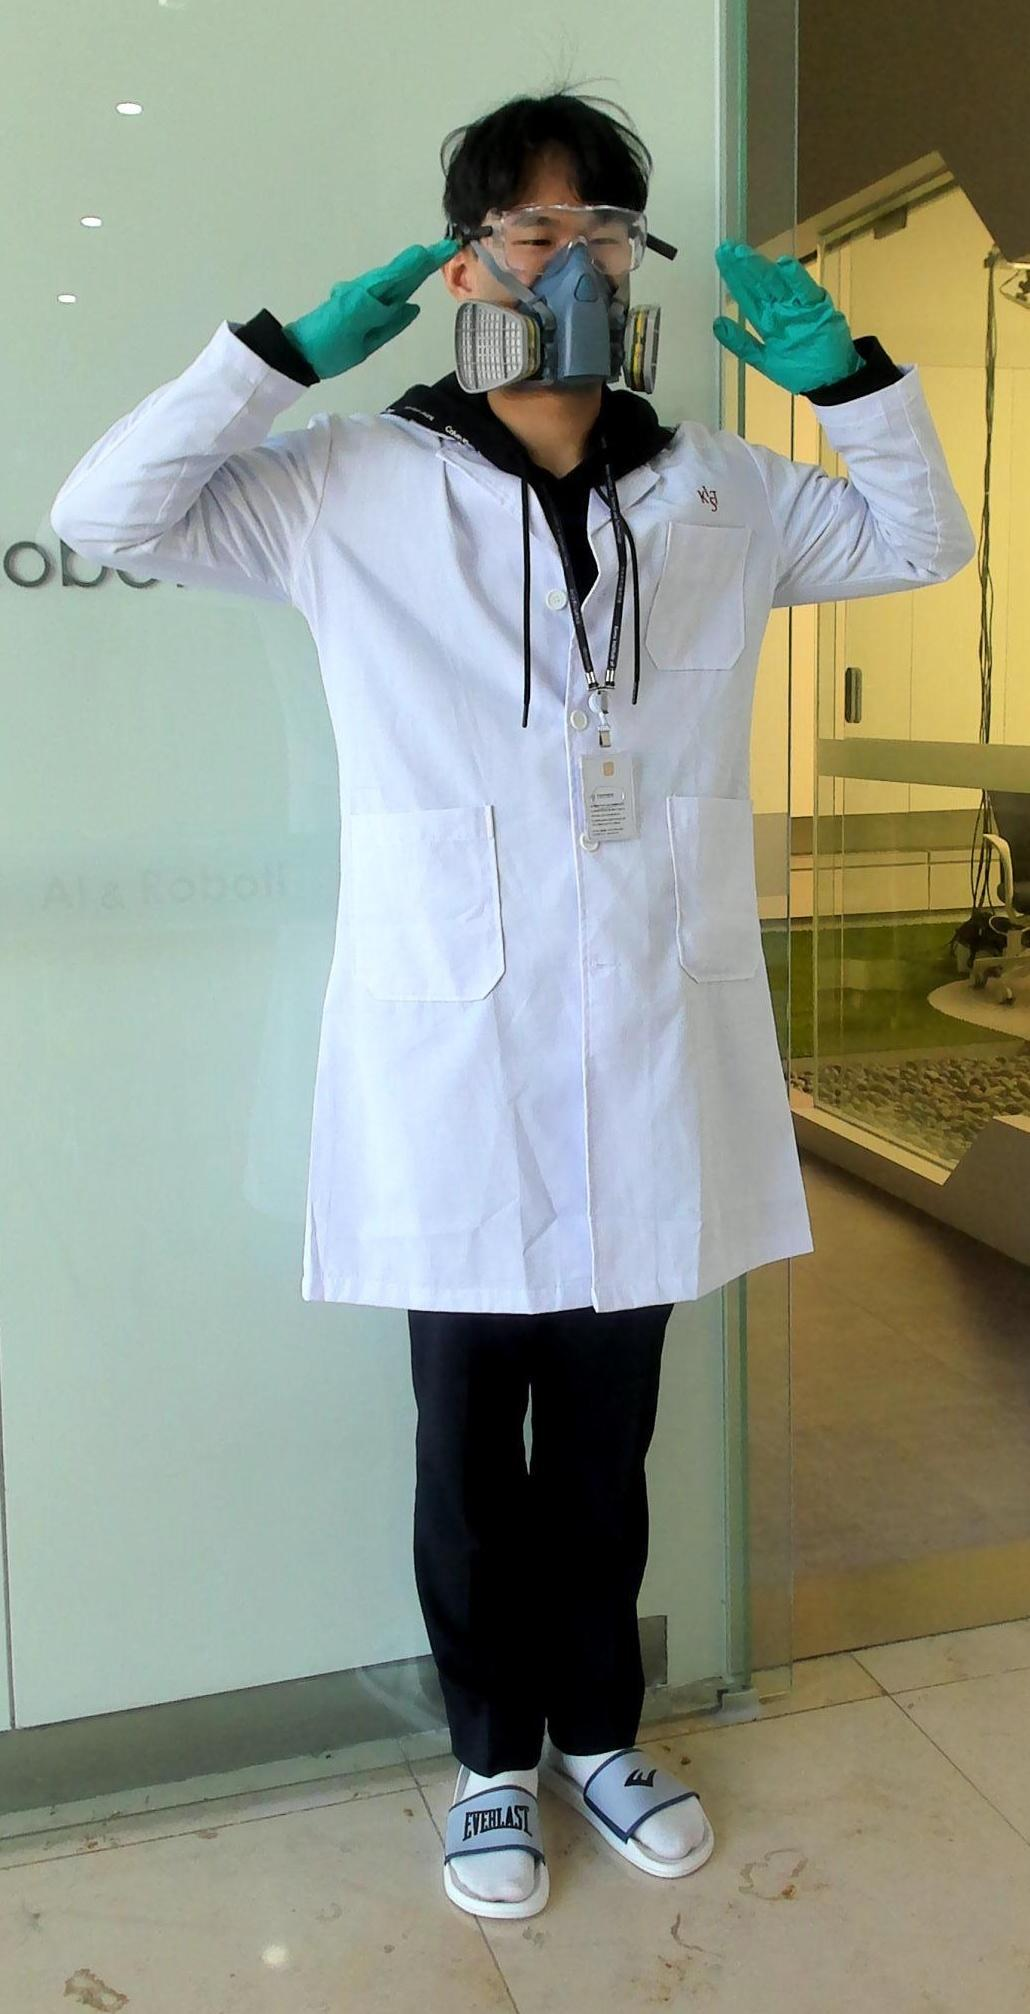lab_coat: (280, 445, 816, 1310)
